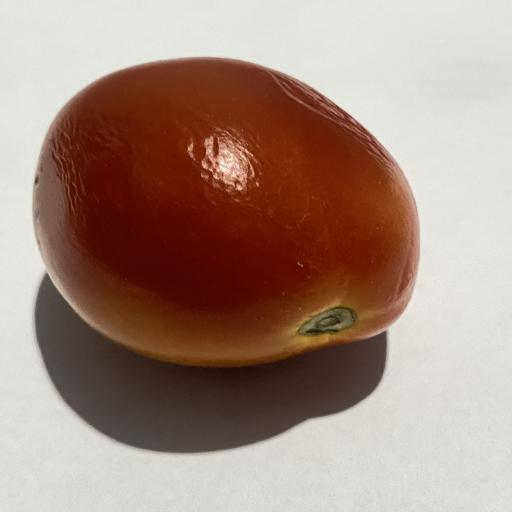spoiled: (33, 58, 419, 366)
